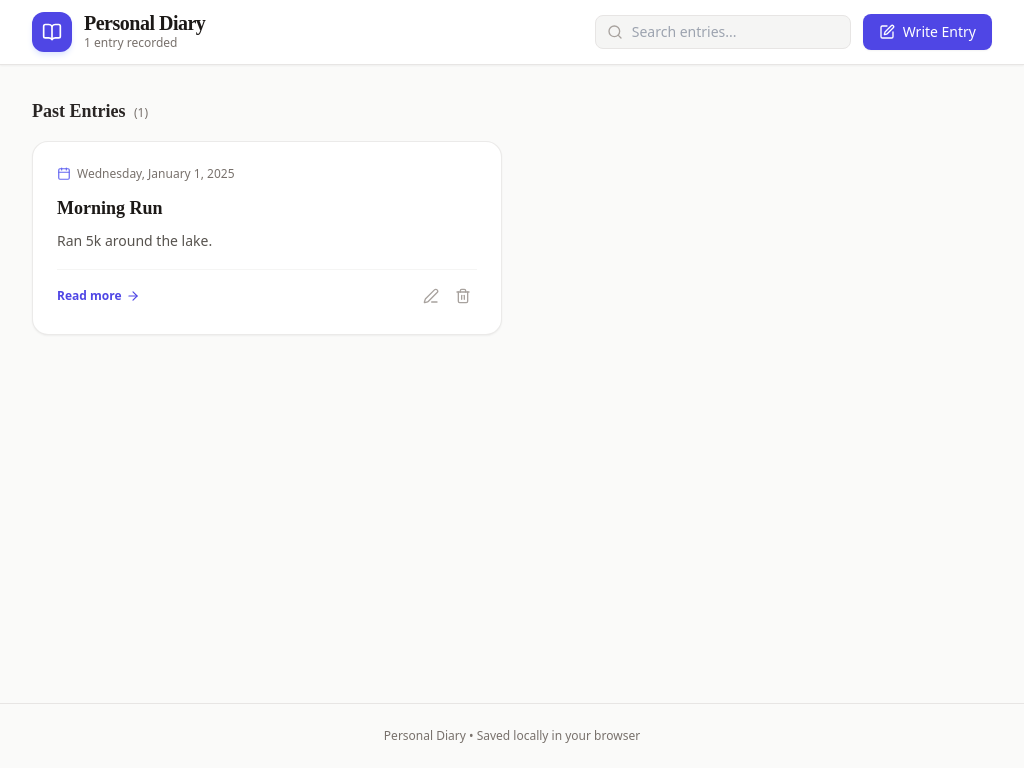
it: Personal Diary App › displays no matching entries message when search yields nothing
The width and height of the screenshot is (1024, 768).
Type "nonexistent query" into the field labelled "Search entries...".
click(723, 32); type("nonexistent query")  # box [595, 15, 851, 49]
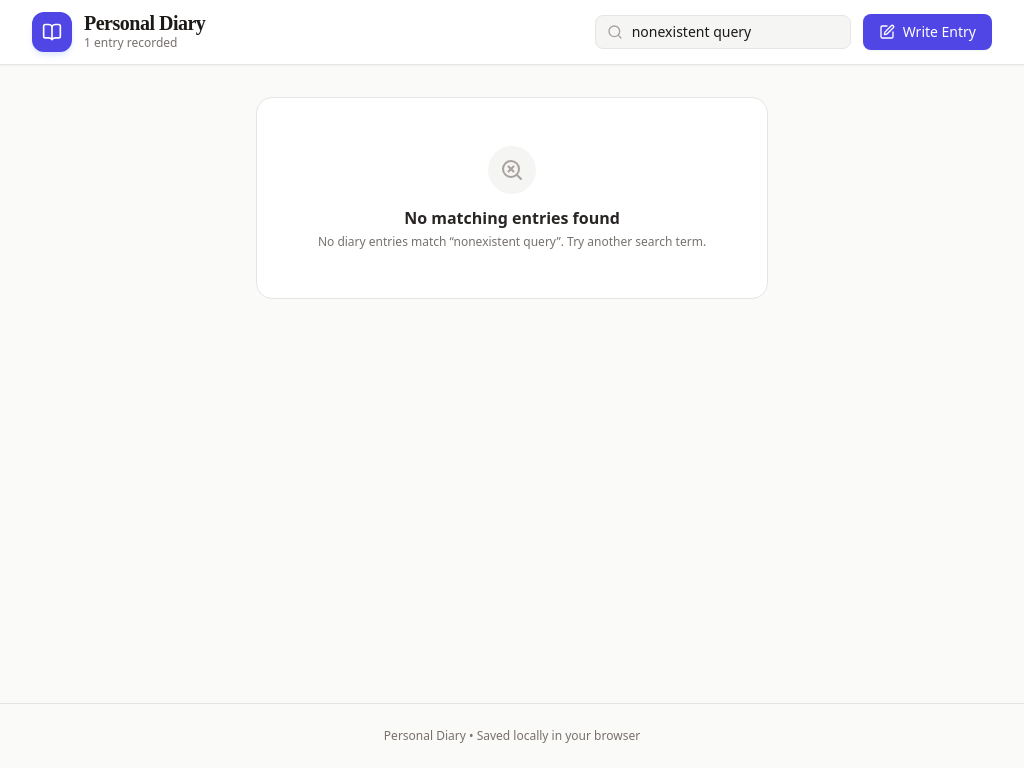
Expected: the heading "No matching entries found" is shown, [404, 207, 620, 229]
